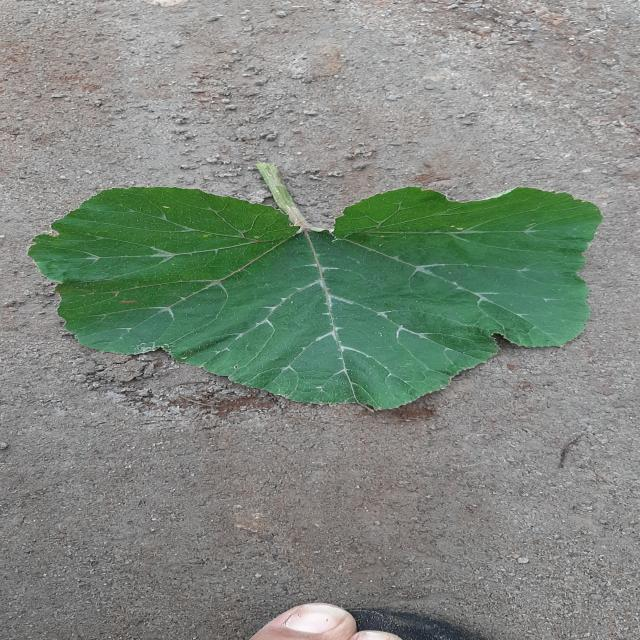pumpkin: (30, 164, 602, 409)
